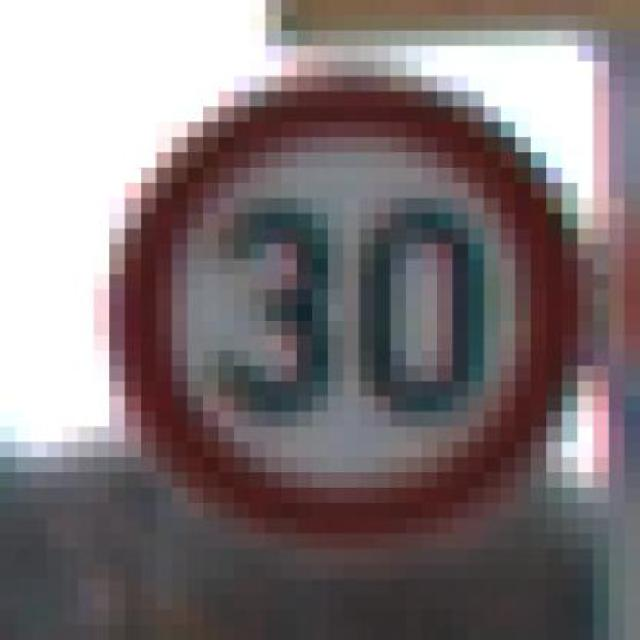Speed Limit 30 KMPh: (46, 61, 609, 564)
